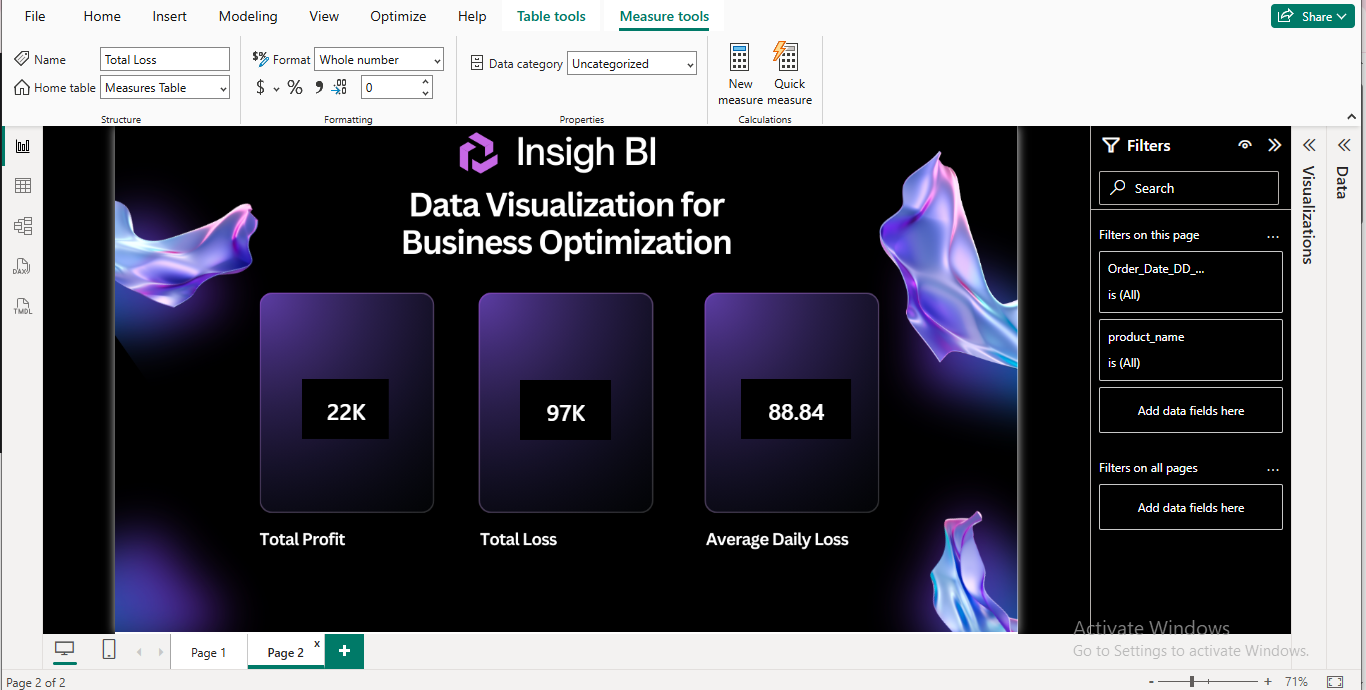

The page's visual inventory and layout, read from the dashboard file:
{"tool":"powerbi","page":{"name":"Page 2","canvas":[1280,720],"ordinal":1},"visuals":[{"type":"cardVisual","fields":{"Data":["Measures Table.Total Profit"]},"box":[242.4,358.6,146,85],"z":0},{"type":"cardVisual","fields":{"Data":["Measures Table.Total Loss"]},"box":[574,360,129,85],"z":1000},{"type":"cardVisual","fields":{"Data":["Measures Table.Average Loss Per Day"]},"box":[887.2,358.6,155.9,85],"z":2000}]}

Visuals, with their boxes on the page's 1280x720 design canvas (x1, y1, x2, y2). These are canvas units, not pixel positions in the 1366x690 screenshot, which may show the page scaled, cropped or inside an application window:
cardVisual - Measures Table.Total Profit: box=[242, 359, 388, 444]
cardVisual - Measures Table.Total Loss: box=[574, 360, 703, 445]
cardVisual - Measures Table.Average Loss Per Day: box=[887, 359, 1043, 444]
